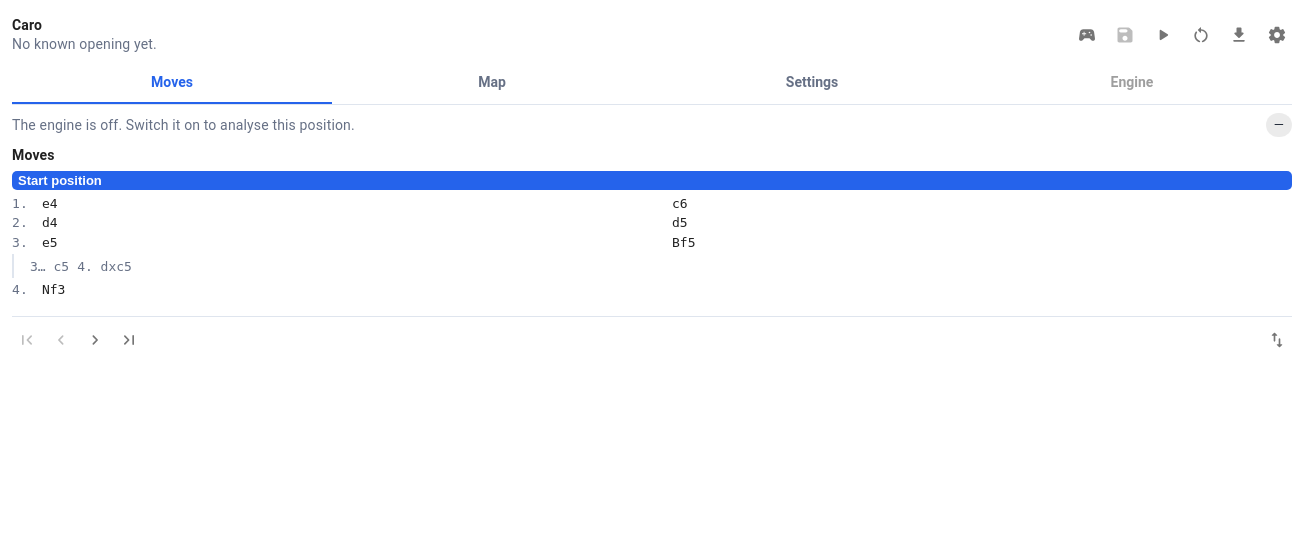
it: the repertoire player, Autoplay on › renders on the shared shell, facing the repertoire's main color, engine off
Expected: the element with test id "repertoire-board-panel" is shown, 12,16 -> 1292,355
Expected: the heading with test id "repertoire-board-name" reads "Caro", 12,17 -> 42,33
Click the tab with test id "repertoire-board-panel-tab-settings" at x=812, y=83, box 652,62 -> 972,104
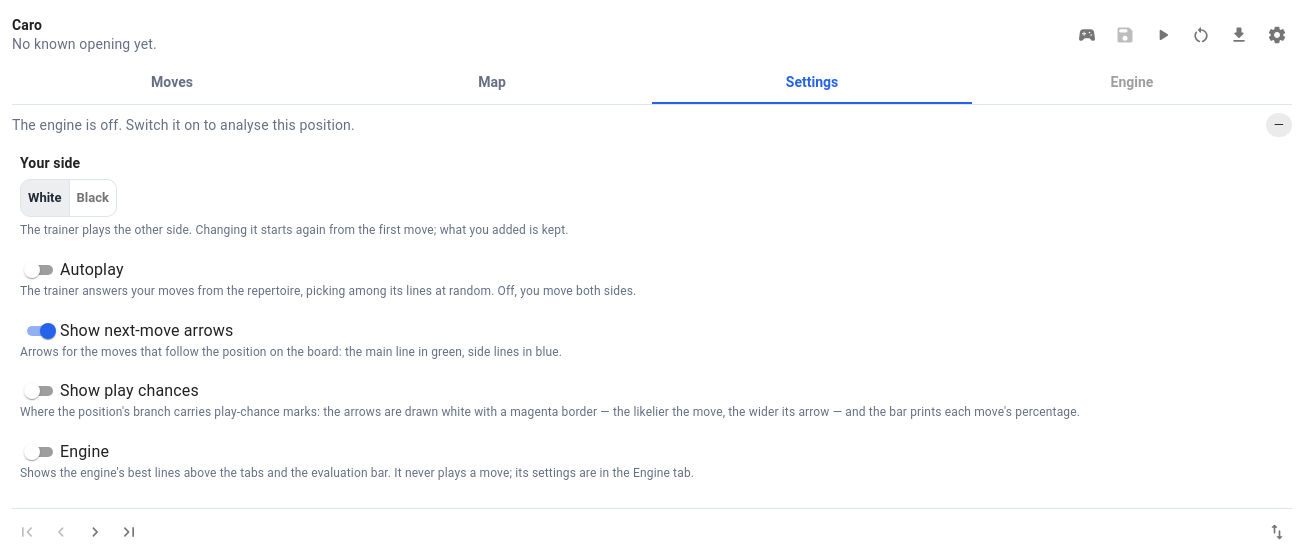
Expected: the switch labelled "Engine" is not checked, 20,440 -> 109,464
Expected: the switch labelled "Autoplay" is not checked, 20,258 -> 124,282
Click the tab with test id "repertoire-board-panel-tab-moves" at x=172, y=83, box 12,62 -> 332,104
Wait 4000 ms
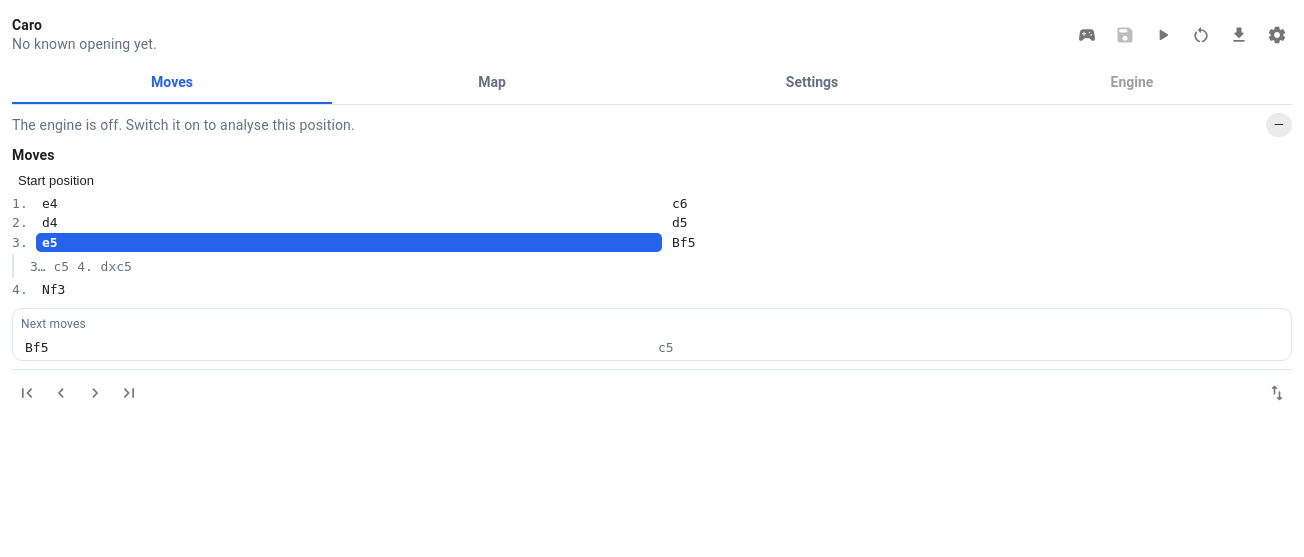
Expected: the element with test id "analysis-next-moves" shows "Bf5", 21,339 -> 52,356
